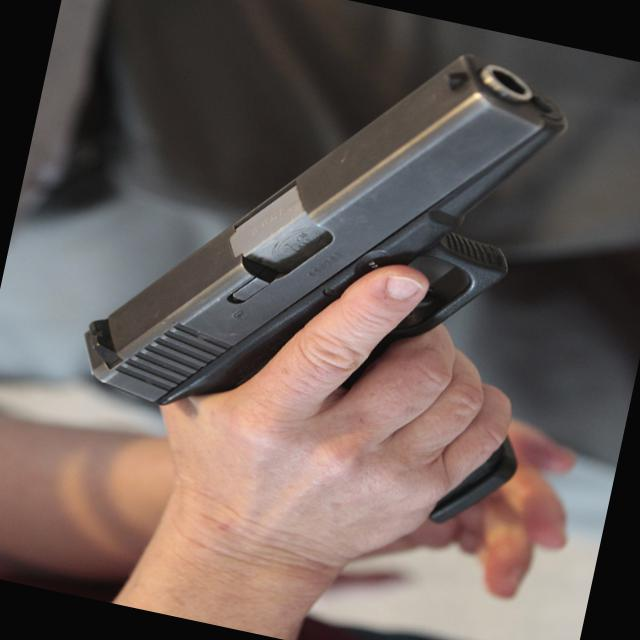handgun: (54, 0, 602, 547)
